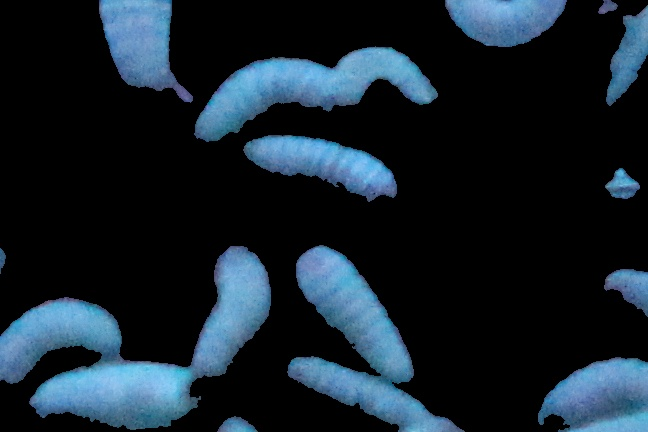larvae: (294, 246, 419, 387), (191, 54, 332, 142), (194, 245, 272, 389), (31, 359, 197, 426), (1, 294, 121, 382), (241, 134, 396, 202), (97, 1, 196, 105), (288, 356, 428, 421), (533, 356, 648, 419), (326, 41, 436, 106), (444, 1, 572, 47)
